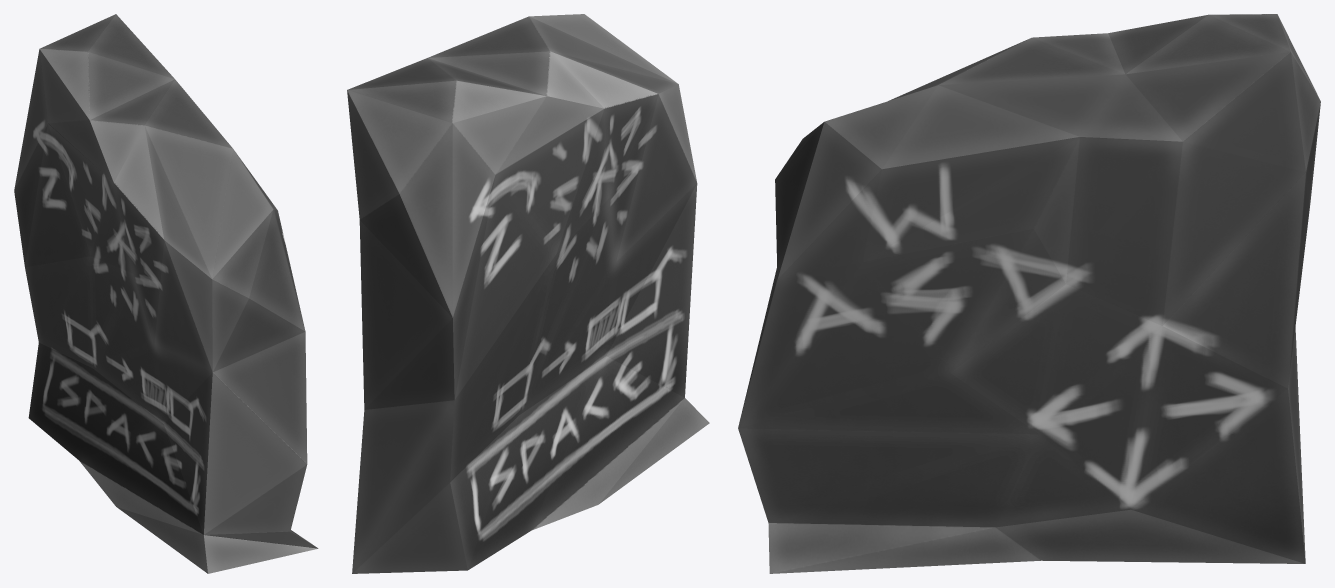
File: Control_Rock.fbx
3 views of the same model, side by side, from view 1: azimuth 30°, elevation 25°; view 2: azimuth 150°, elevation 25°; view 3: azimuth 270°, elevation 25° (orthographic). The views are drawn at different scales.
Visible parts, largest first — view 1: Contorl_Rock; view 2: Contorl_Rock; view 3: Contorl_Rock.
Boxes of the visible parts, box(x1,y1,x2,y2) form: Contorl_Rock: box(14, 14, 318, 573); Contorl_Rock: box(347, 14, 709, 573); Contorl_Rock: box(738, 14, 1320, 573).
Bounding box in the file's own units: 272 × 890 × 908.
1 material, 1 textured.
